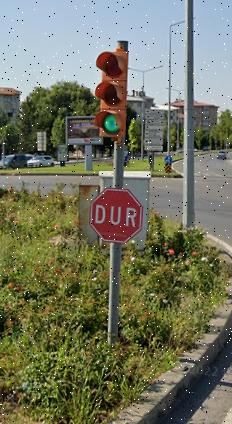greenlight: (97, 50, 129, 137)
stop: (92, 189, 143, 243)
